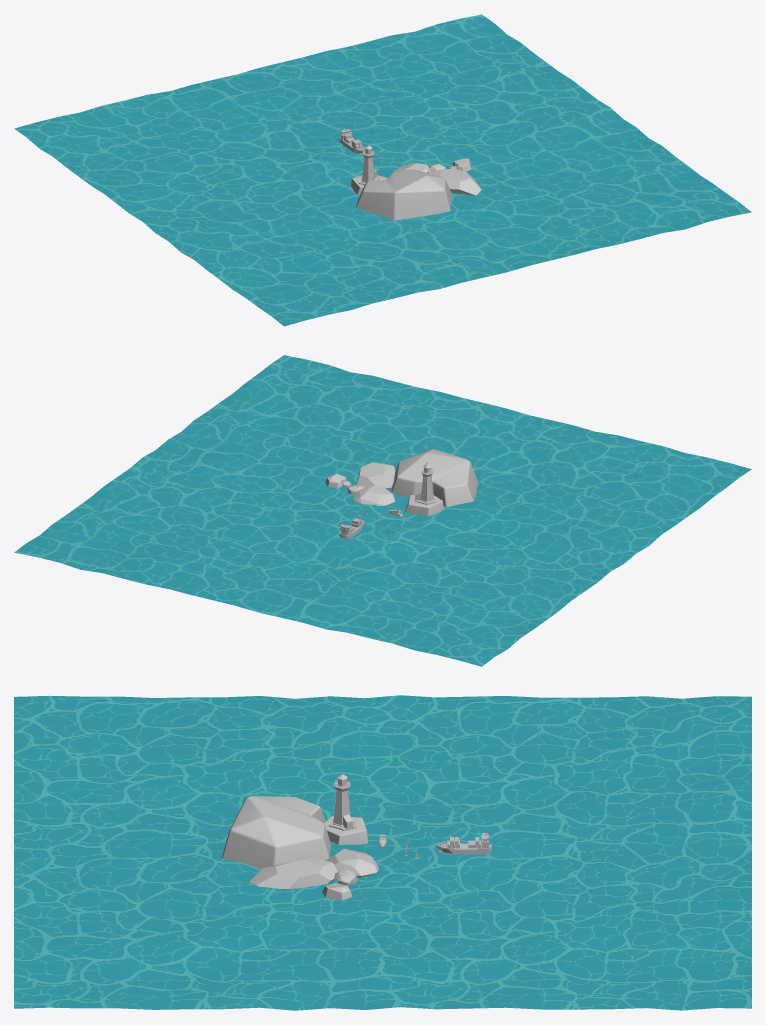
Rendered from changjing6_1.fbx.
3 renders of one model, top to bottom at view 1: azimuth 30°, elevation 25°; view 2: azimuth 150°, elevation 25°; view 3: azimuth 270°, elevation 25°, orthographic. The views are drawn at different scales.
Visible parts, largest first — view 1: shuimian; view 2: shuimian; view 3: shuimian, HuoLun.
Boxes of the visible parts, left/top/right/bottom form: shuimian: left=14, top=14, right=751, bottom=326; shuimian: left=14, top=355, right=751, bottom=666; shuimian: left=14, top=695, right=751, bottom=1010; HuoLun: left=436, top=832, right=491, bottom=854.
Size of the model in its own units: 50226 by 5803 by 50226.
